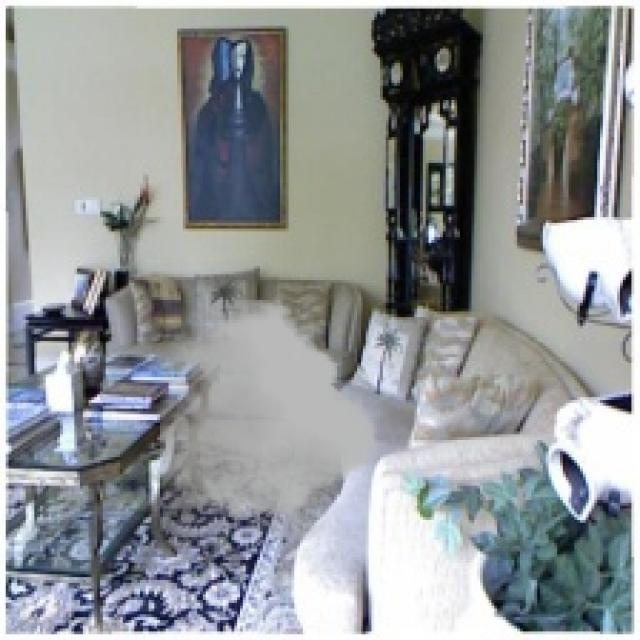Smoke: (160, 294, 377, 549)
